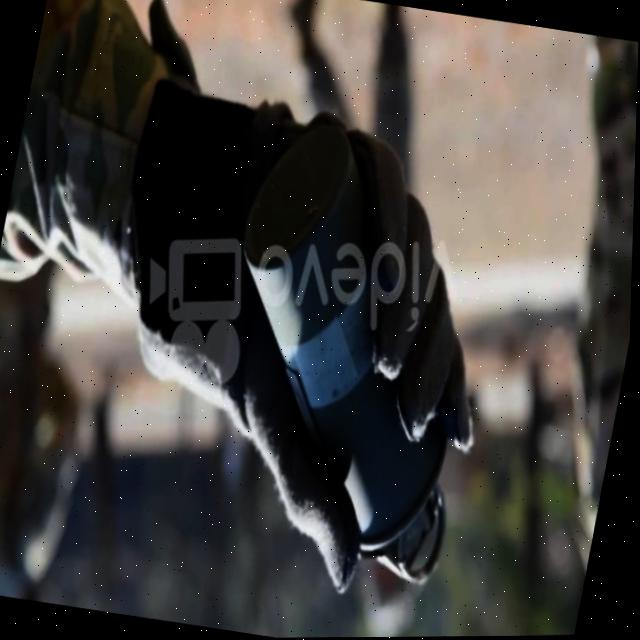grenade: (158, 76, 551, 631)
